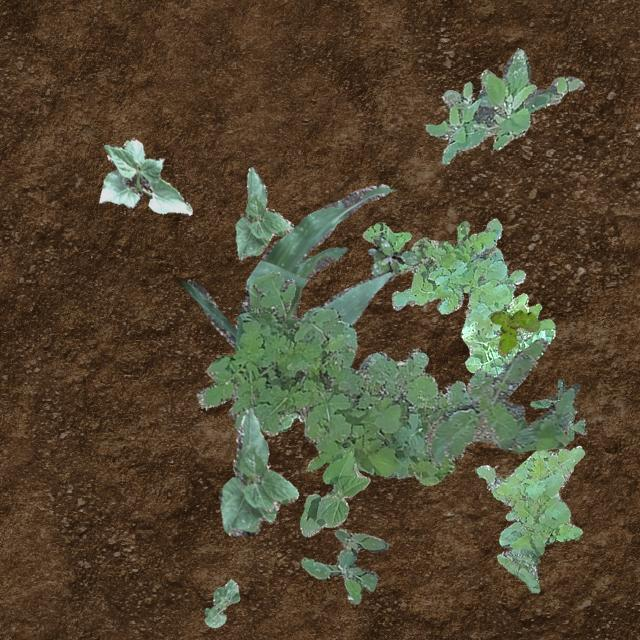crop: (182, 182, 394, 348), (218, 408, 298, 534), (99, 138, 191, 215), (298, 446, 368, 536), (235, 166, 292, 260), (204, 578, 238, 626)
weed: (196, 270, 470, 484), (362, 218, 554, 376), (424, 336, 578, 466), (424, 46, 584, 162), (476, 444, 584, 592), (300, 528, 388, 604), (528, 378, 586, 440), (366, 234, 422, 276), (489, 310, 538, 354), (277, 411, 303, 432)
